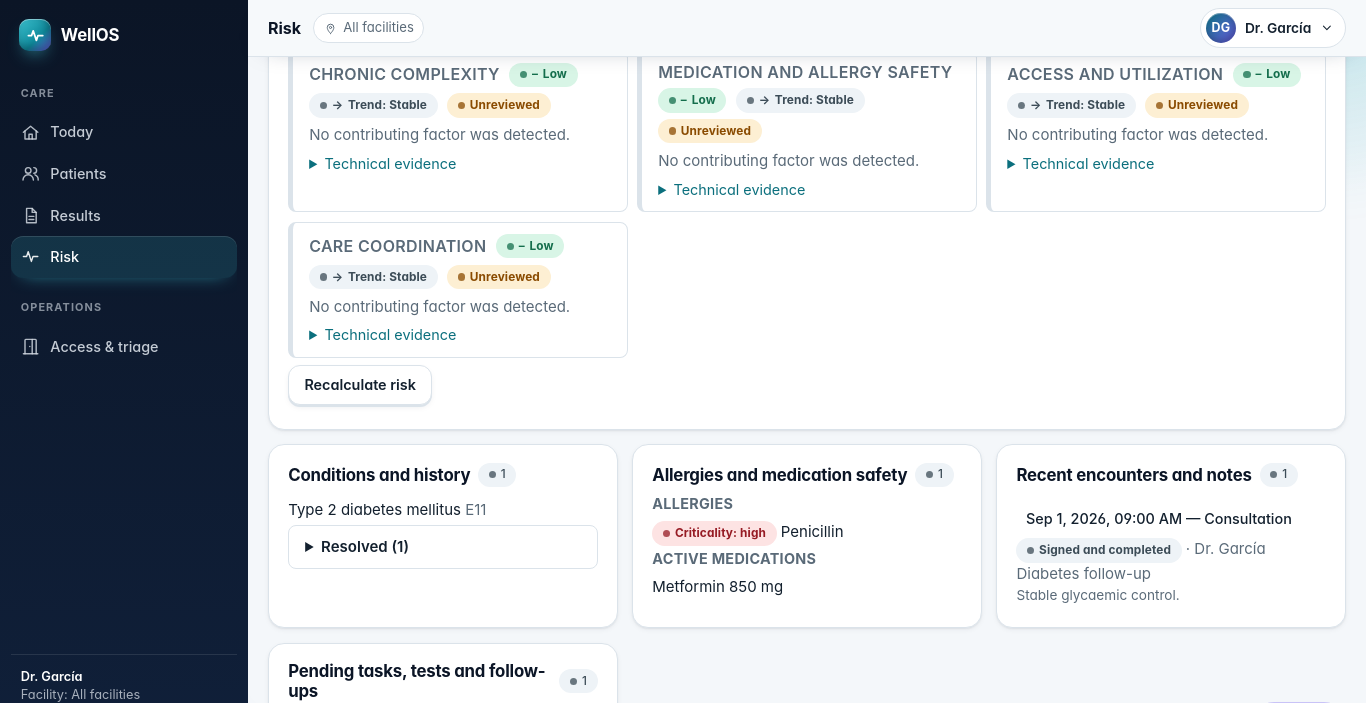
it: Patient 360 › recalculates on request and reloads
The image size is (1366, 703).
(page scrolled)
Click the button "Recalculate risk" at {"x": 360, "y": 385}, box x1=288 y1=365 x2=432 y2=405
(page scrolled)
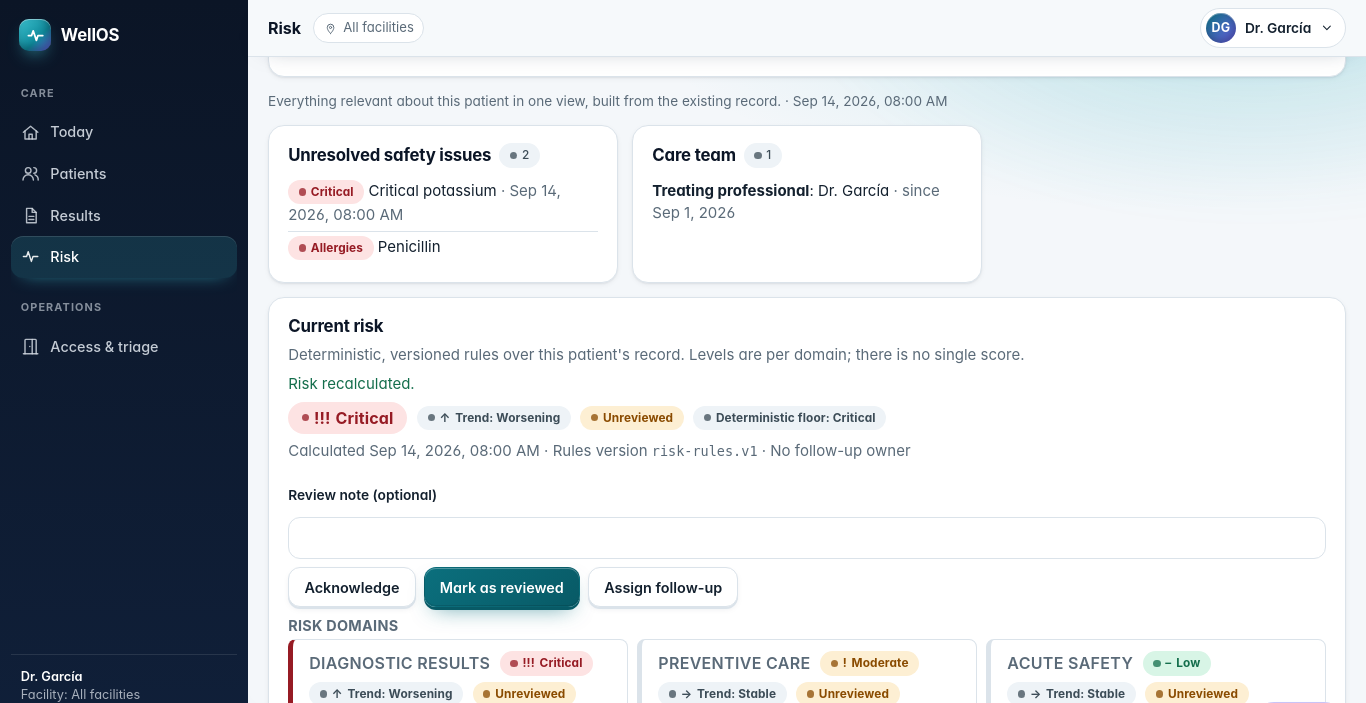
Expected: the text "Risk recalculated." is shown, x1=288 y1=374 x2=415 y2=393
